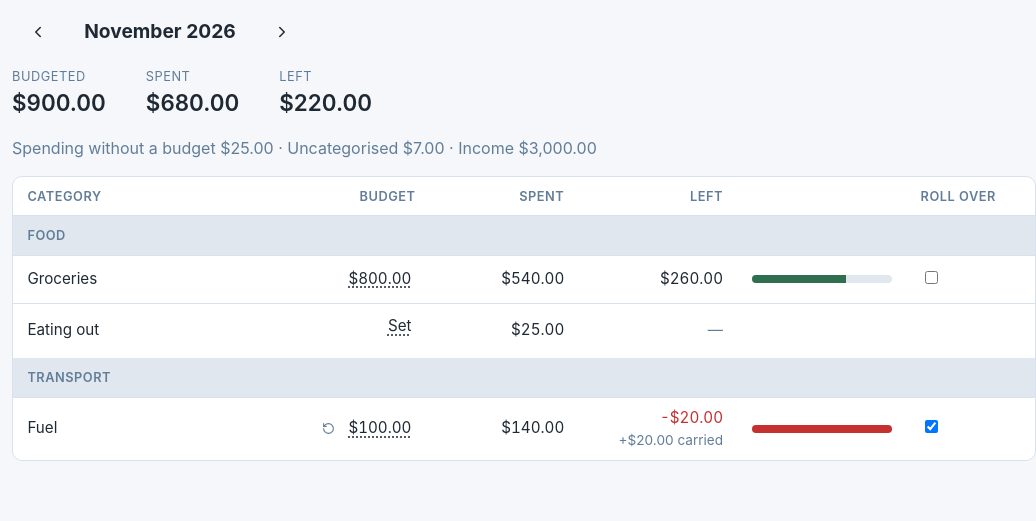
it: BudgetPage › bad amounts show an error and keep editing
The image size is (1036, 521).
Expected: the text "$900.00" is shown, 12,86 -> 106,120
Click the button with aria-label "Edit budget for Eating out" at coordinates (400, 327), box 384,313 -> 416,341
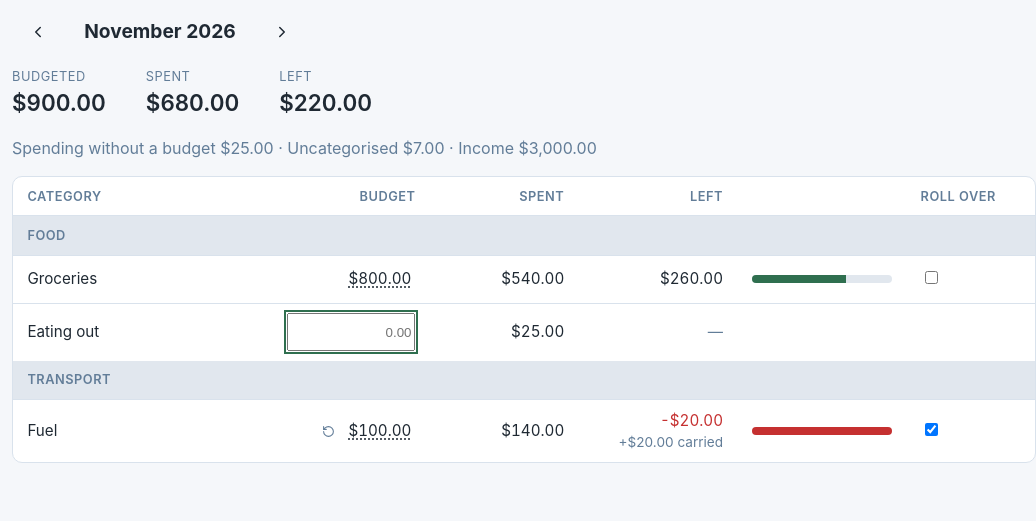
Type "abc" into the field named "Budget for Eating out" at coordinates (352, 332), box 288,313 -> 416,351
Then press Enter
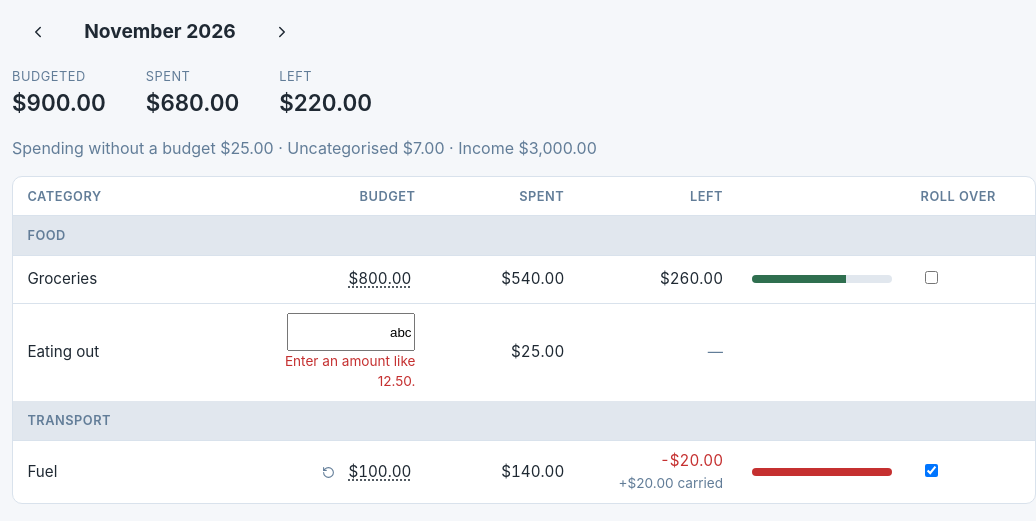
Now the text "Enter an amount like 12.50." is shown, box 266,351 -> 416,392
